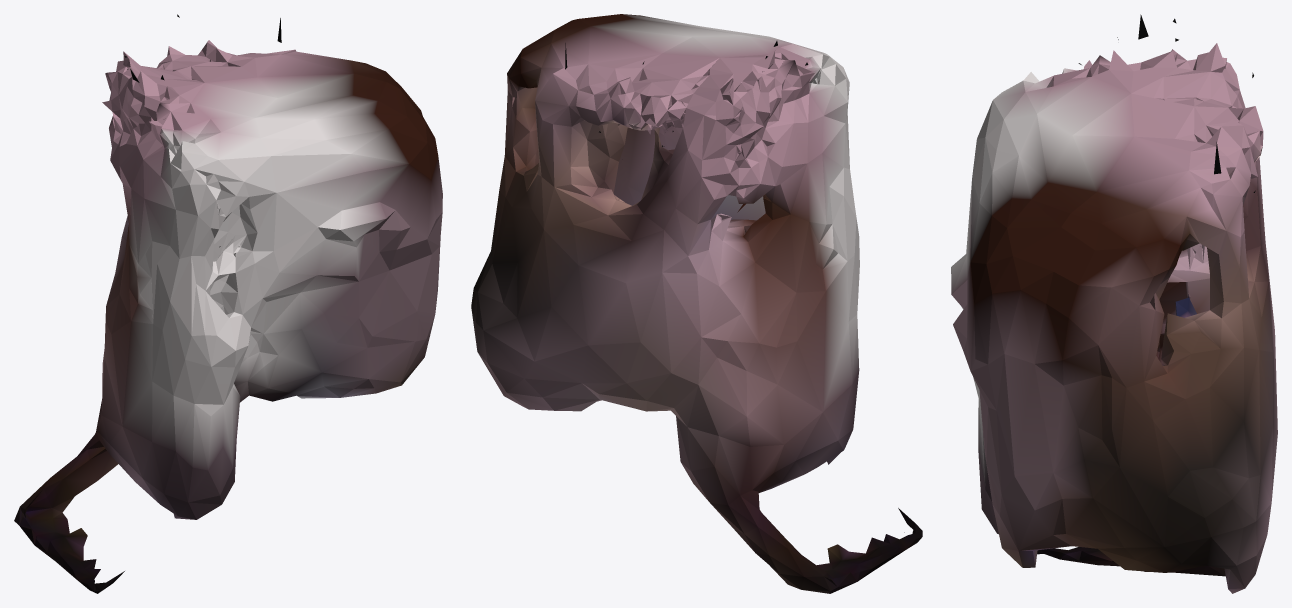
Rendered from Living_room2.obj.
3 renders of one model, left to right at view 1: azimuth 30°, elevation 25°; view 2: azimuth 150°, elevation 25°; view 3: azimuth 270°, elevation 25°, orthographic. The views are drawn at different scales.
Size of the model in its own units: 241 by 308 by 154.
